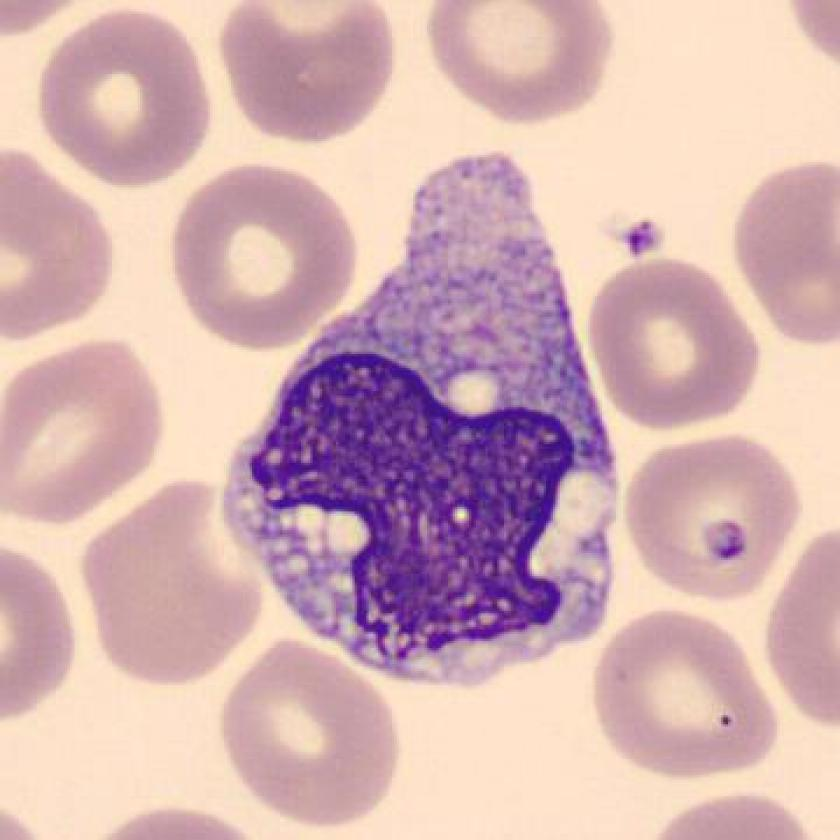monocyte: (207, 142, 641, 705)
